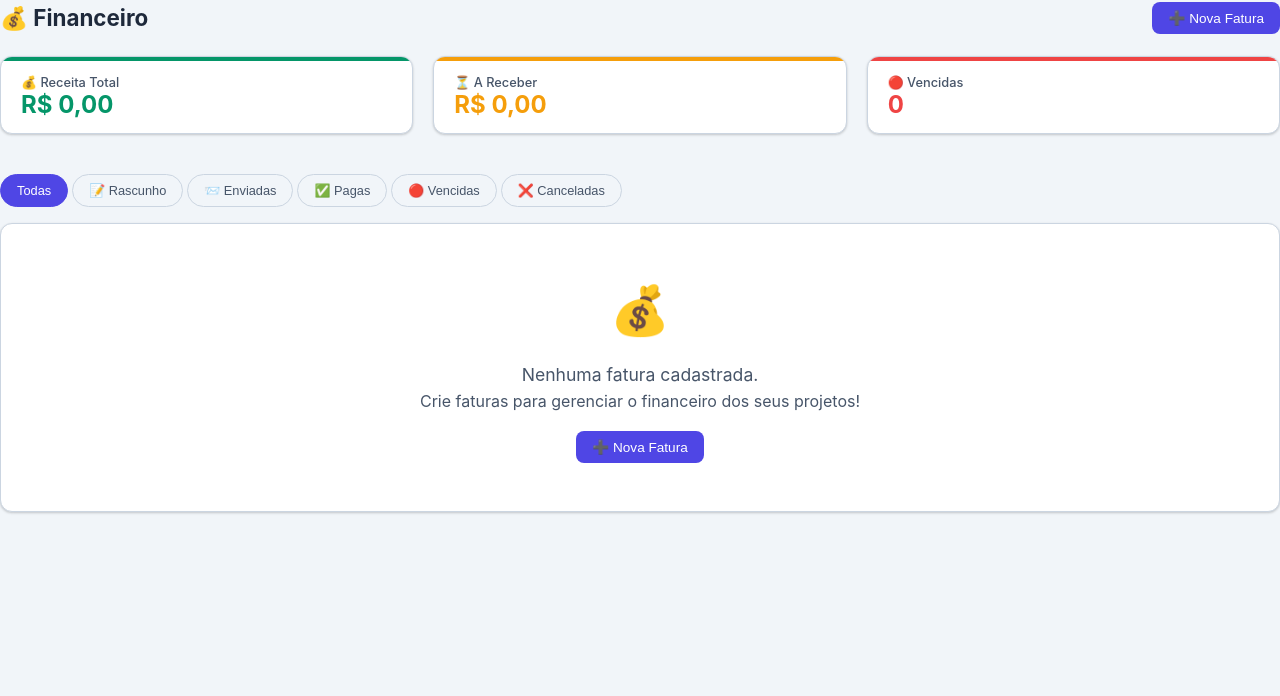
Finance › shows form fields in create modal
The width and height of the screenshot is (1280, 696).
Click the button "➕ Nova Fatura" in the row of "💰 Financeiro".
click(1216, 18)  # box [1152,2,1279,34]
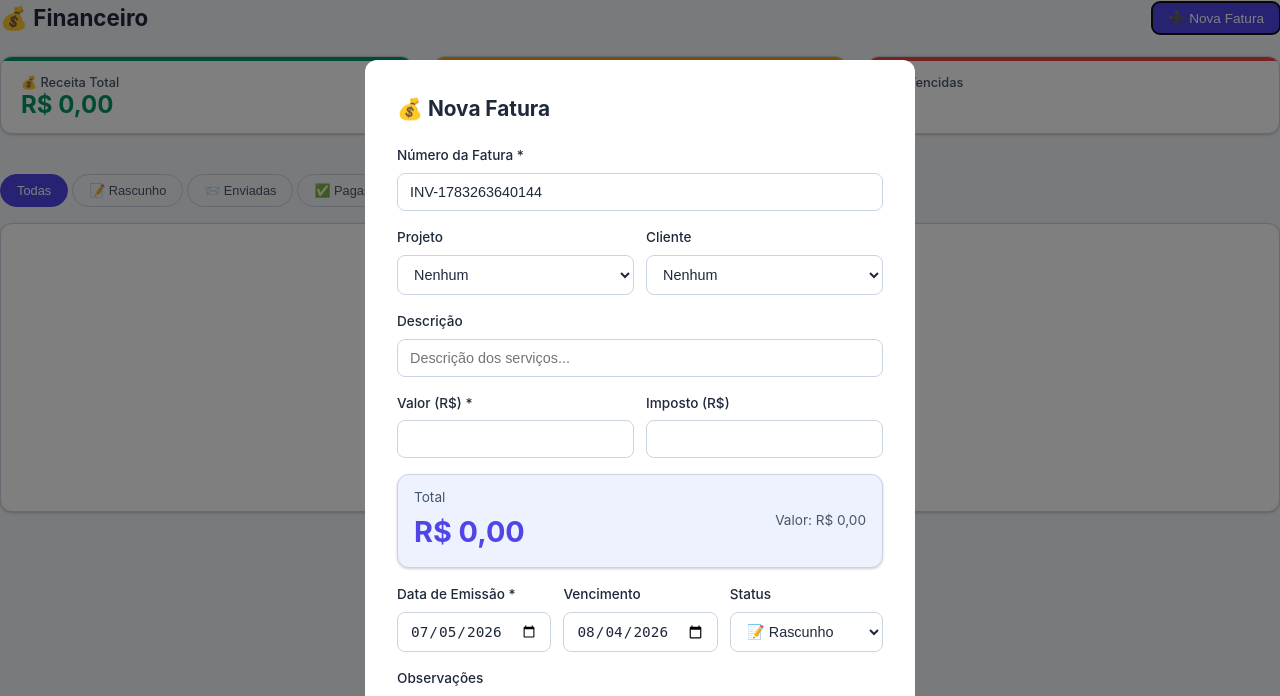
Expected: the text "Número da Fatura *" is shown, [397,147,524,163]
Expected: the text "Valor (R$) *" is shown, [397,394,472,410]
Expected: the text "Total" is shown, [414,489,445,505]
